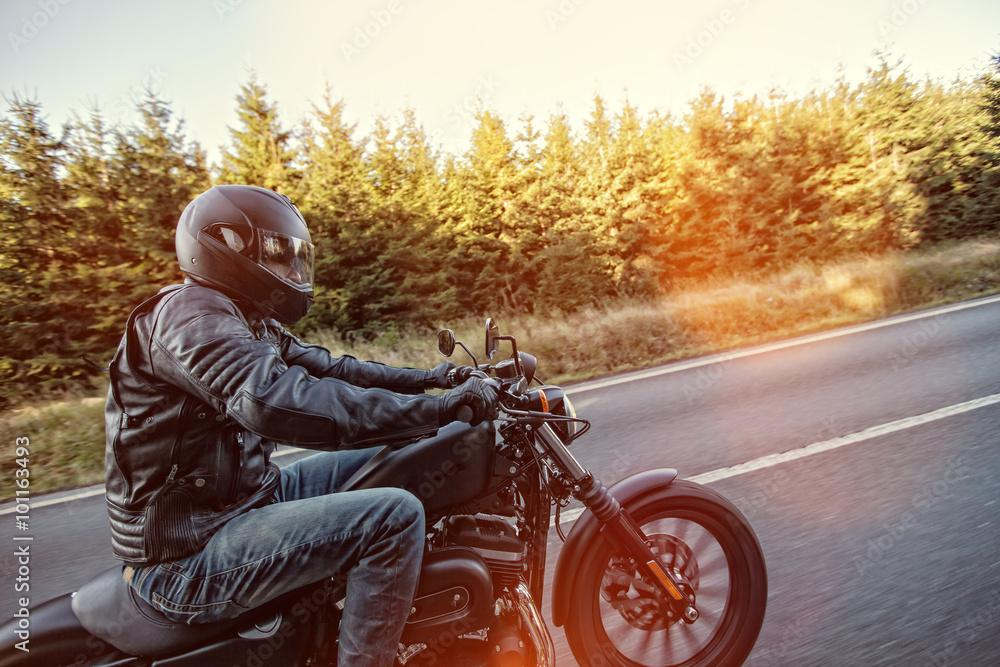helmet: (174, 184, 316, 326)
